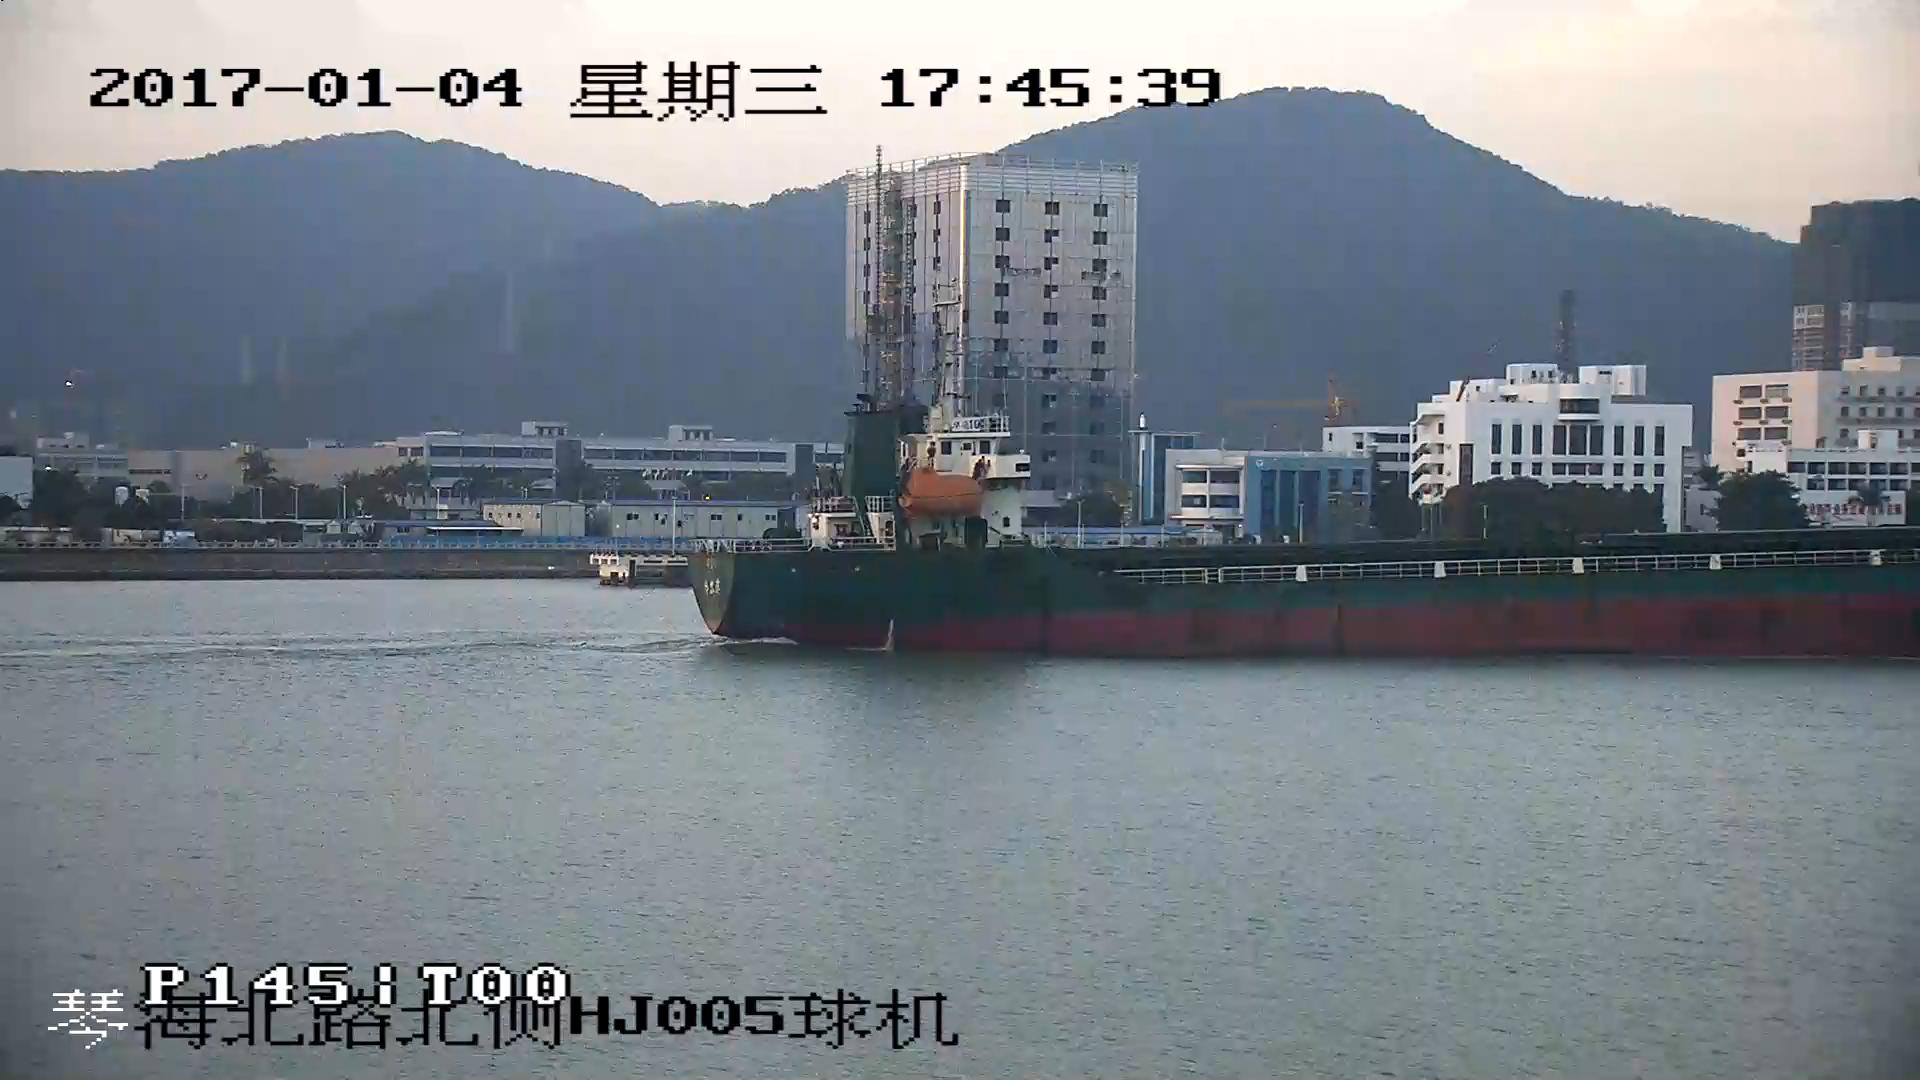general cargo ship: (683, 419, 1920, 665)
